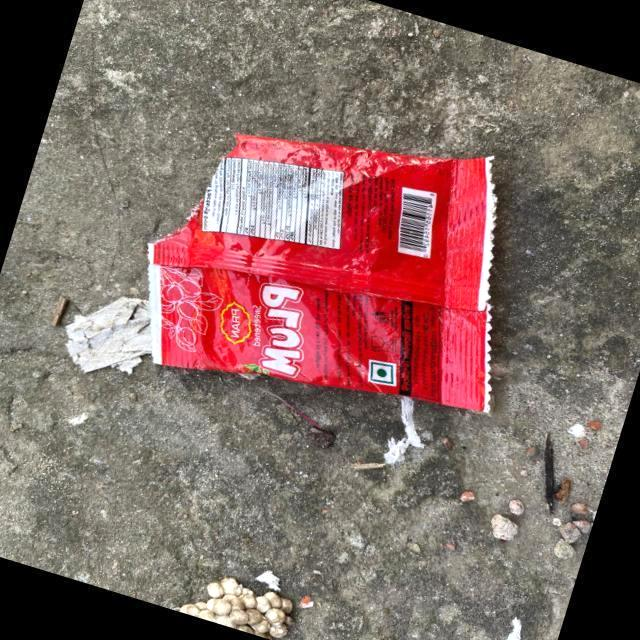packet: (158, 142, 494, 379)
